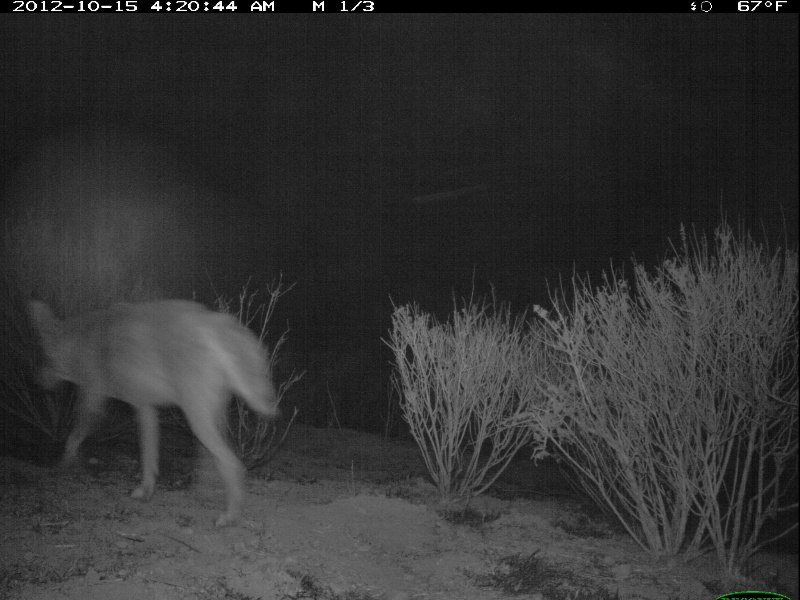coyote: (22, 291, 282, 530)
